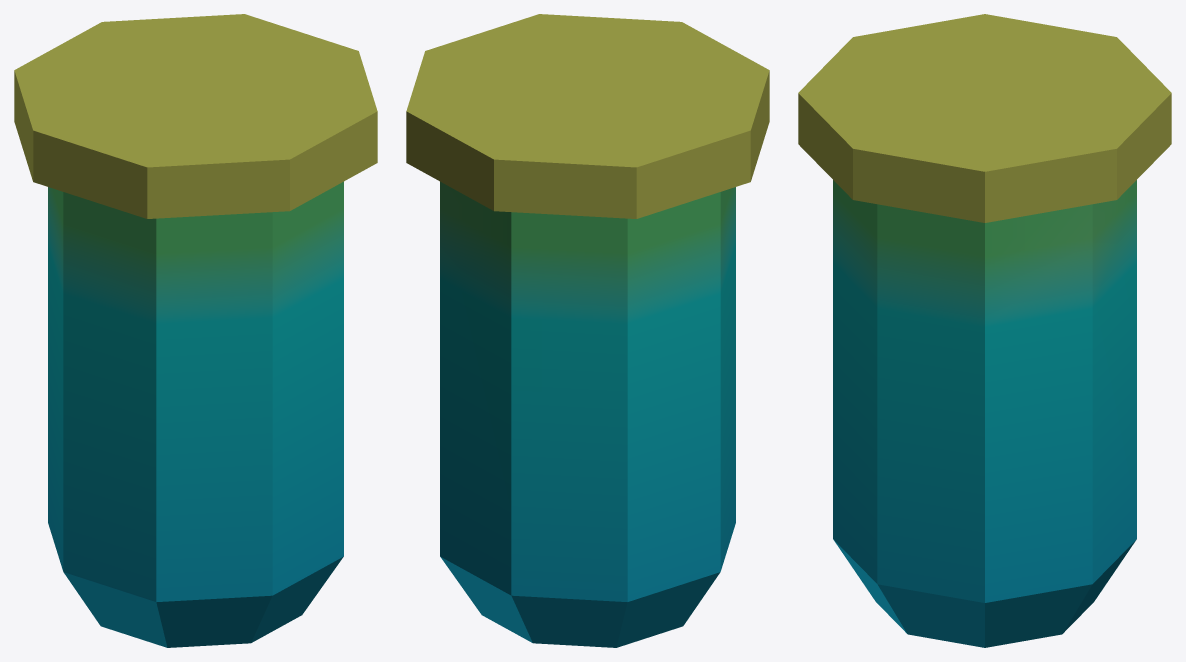
File: tinta.fbx
3 renders of one model, left to right at view 1: azimuth 30°, elevation 25°; view 2: azimuth 150°, elevation 25°; view 3: azimuth 270°, elevation 25°, orthographic.
Visible parts, largest first — view 1: Cylinder; view 2: Cylinder; view 3: Cylinder.
Boxes of the visible parts, x1=… form: Cylinder: x1=14, y1=14, x2=377, y2=647; Cylinder: x1=406, y1=14, x2=769, y2=647; Cylinder: x1=798, y1=14, x2=1171, y2=647.
Bounding box in the file's own units: 6.09 × 9.16 × 6.09.
